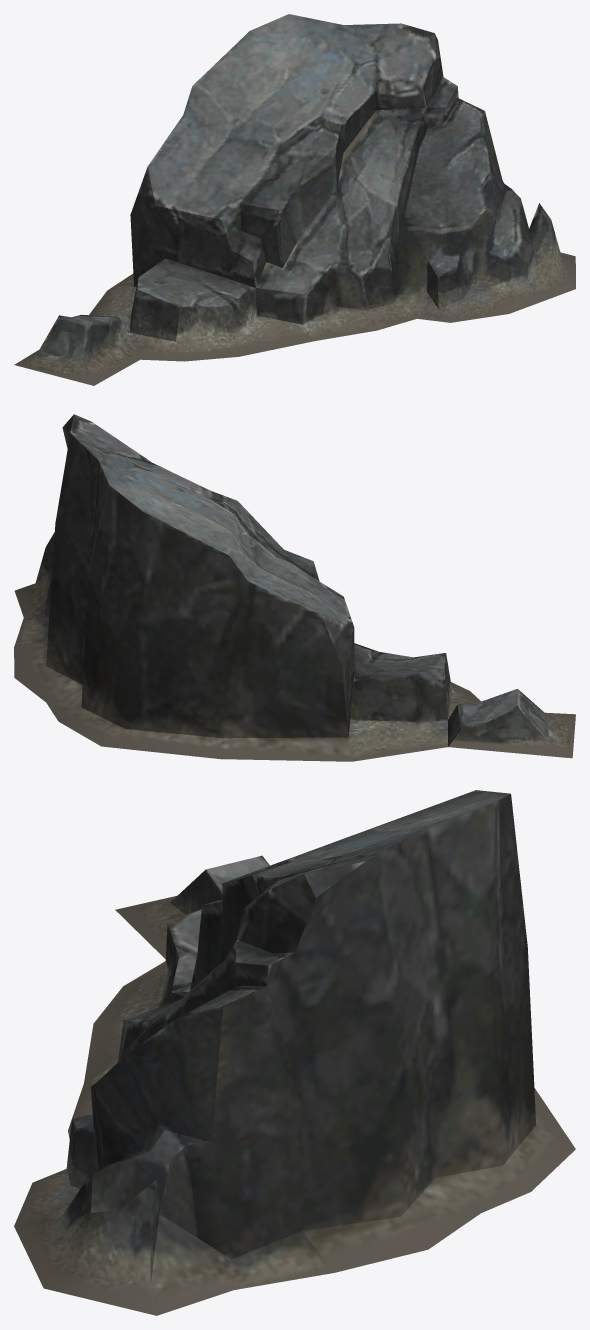
File: dx_shitou_11.FBX
3 views of the same model, one above another, from view 1: azimuth 30°, elevation 25°; view 2: azimuth 150°, elevation 25°; view 3: azimuth 270°, elevation 25° (orthographic). The views are drawn at different scales.
Parts seen in each view (by area): view 1: dx_shitou_11; view 2: dx_shitou_11; view 3: dx_shitou_11.
Boxes of the visible parts, x1,y1,x2,y2 form: dx_shitou_11: (14,14,575,385); dx_shitou_11: (14,414,575,761); dx_shitou_11: (14,790,575,1315).
Bounding box in the file's own units: 339 × 131 × 184.
